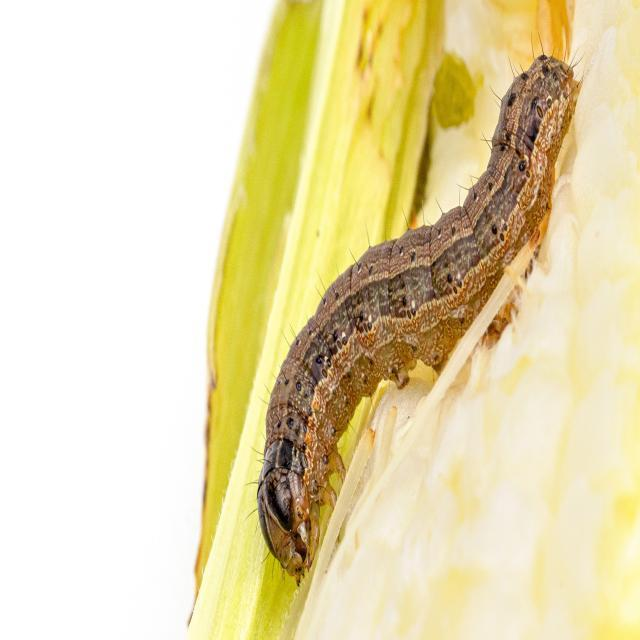army worm: (161, 53, 599, 567)
